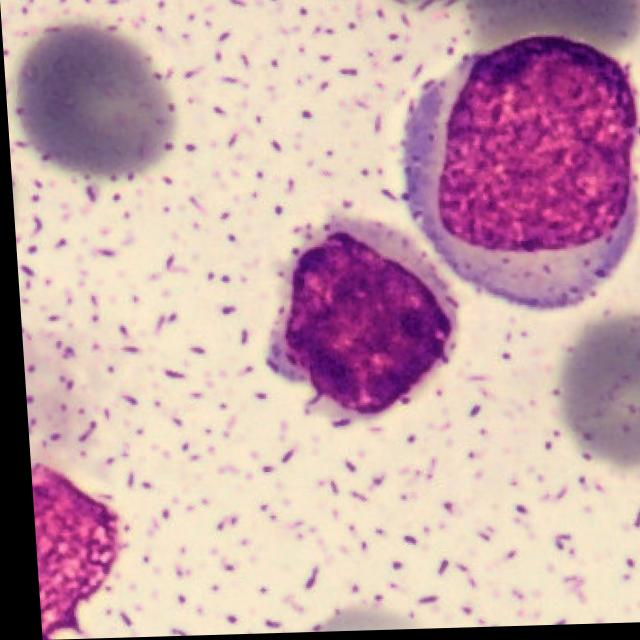Mieloblasto: (397, 40, 640, 314)
